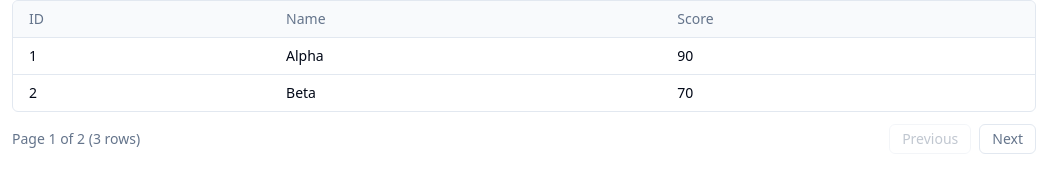
Scenario: DataTable › paginates data
expect the text "Alpha" is shown: met, box [270,38,661,74]
expect the text "Beta" is shown: met, box [270,74,661,111]
Note: Navigate to page 2
Click the button "Next": coordinates (1008, 139) [979,124,1036,154]
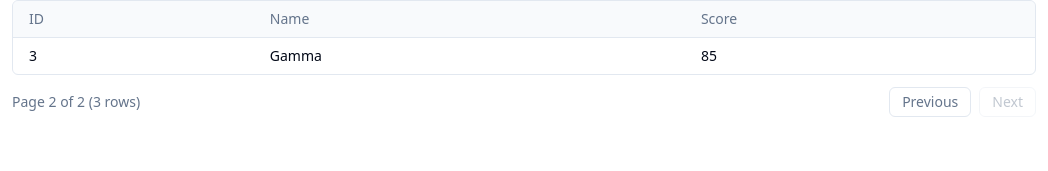
expect the text "Gamma" is shown: met, box [254,38,685,74]
expect the text "Alpha" is gone: met
